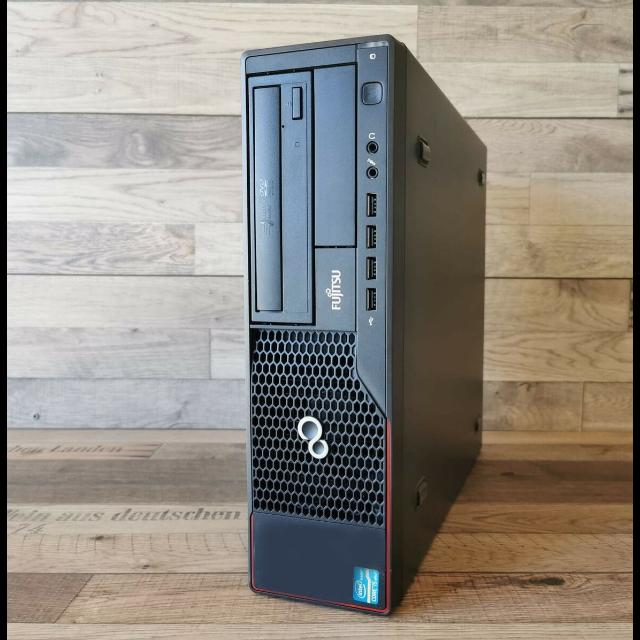Desktop-PC: (243, 39, 482, 604)
